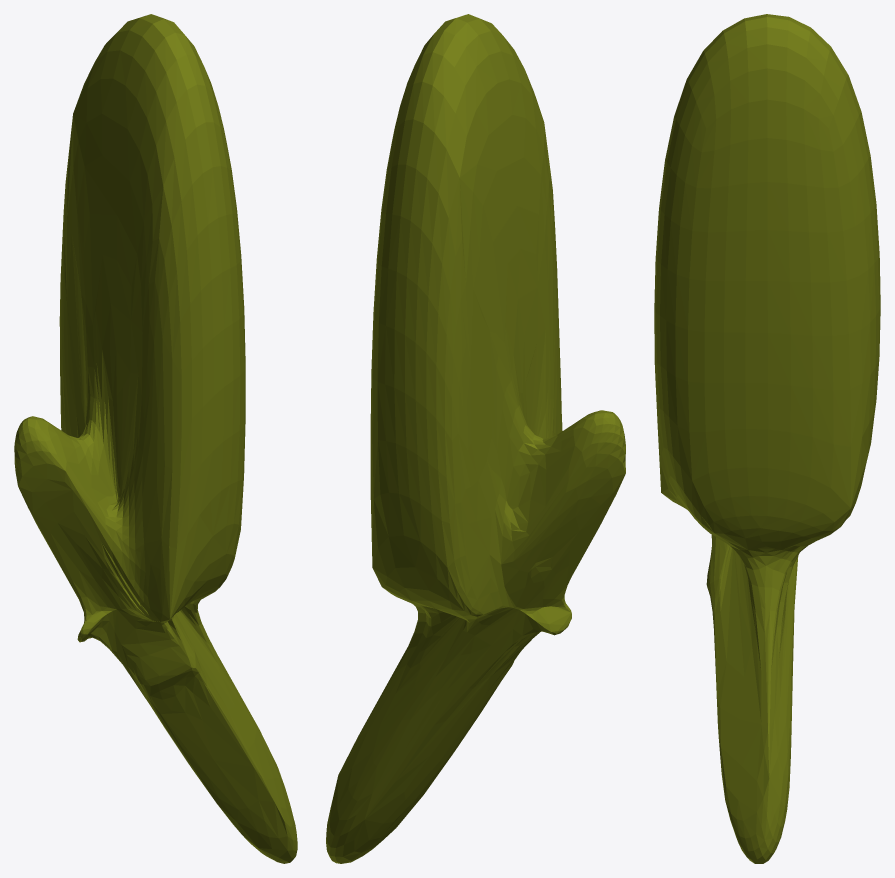
3 renders of one model, left to right at view 1: azimuth 30°, elevation 25°; view 2: azimuth 150°, elevation 25°; view 3: azimuth 270°, elevation 25°, orthographic. The views are drawn at different scales.
Parts seen in each view (by area): view 1: 715_Cube.2872; view 2: 715_Cube.2872; view 3: 715_Cube.2872.
Part boxes in pixels (<box>): 715_Cube.2872: <box>14,14,297,863</box>; 715_Cube.2872: <box>326,14,625,863</box>; 715_Cube.2872: <box>654,14,880,863</box>.
Size of the model in its own units: 5.94 by 17.23 by 4.45.
